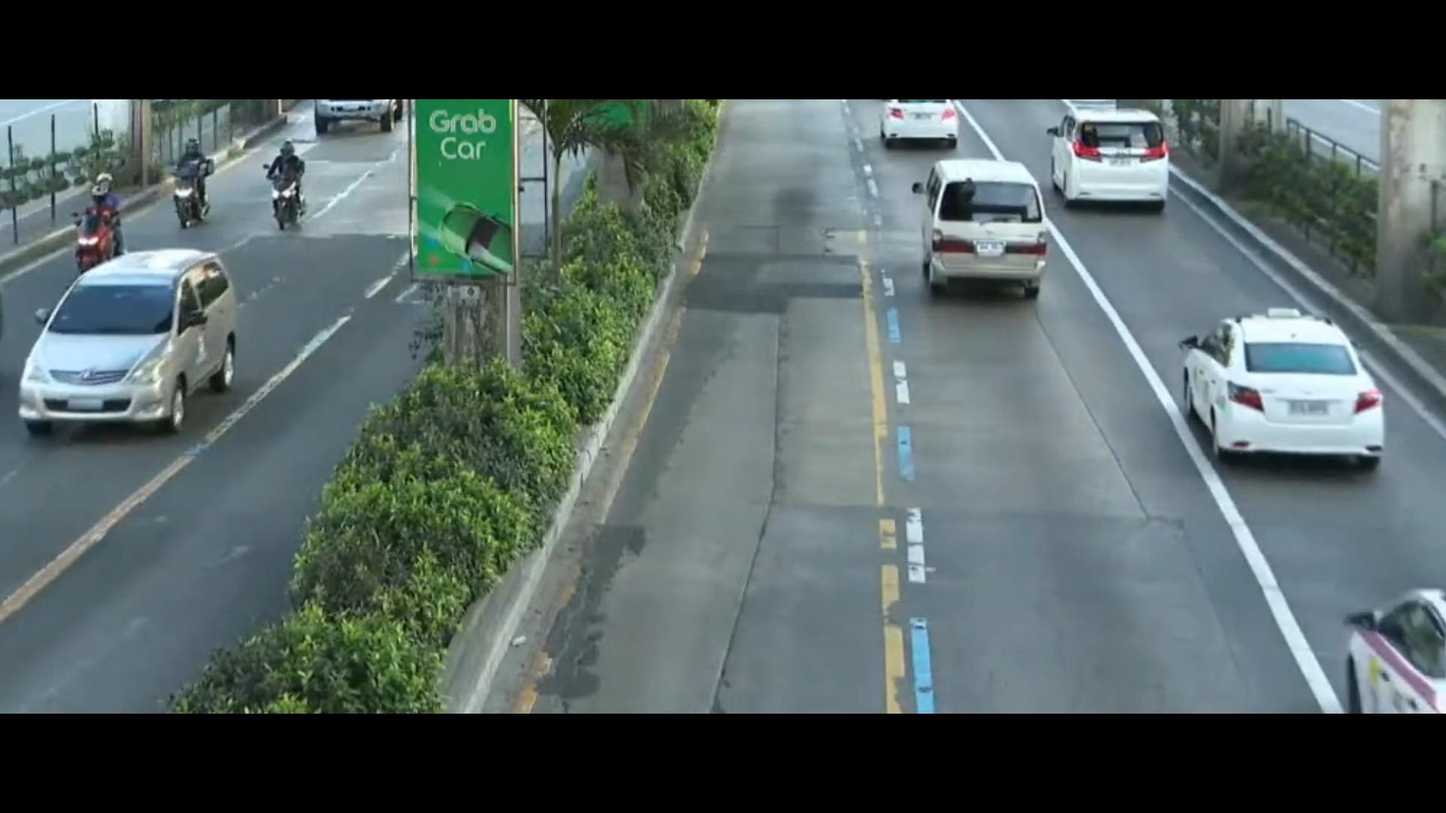Motorcycle: (63, 164, 144, 282), (256, 141, 332, 242), (167, 133, 226, 244)
SUV: (0, 239, 249, 448)
Sedan: (1152, 293, 1426, 487)
Van: (903, 154, 1055, 328), (1044, 103, 1188, 210)
